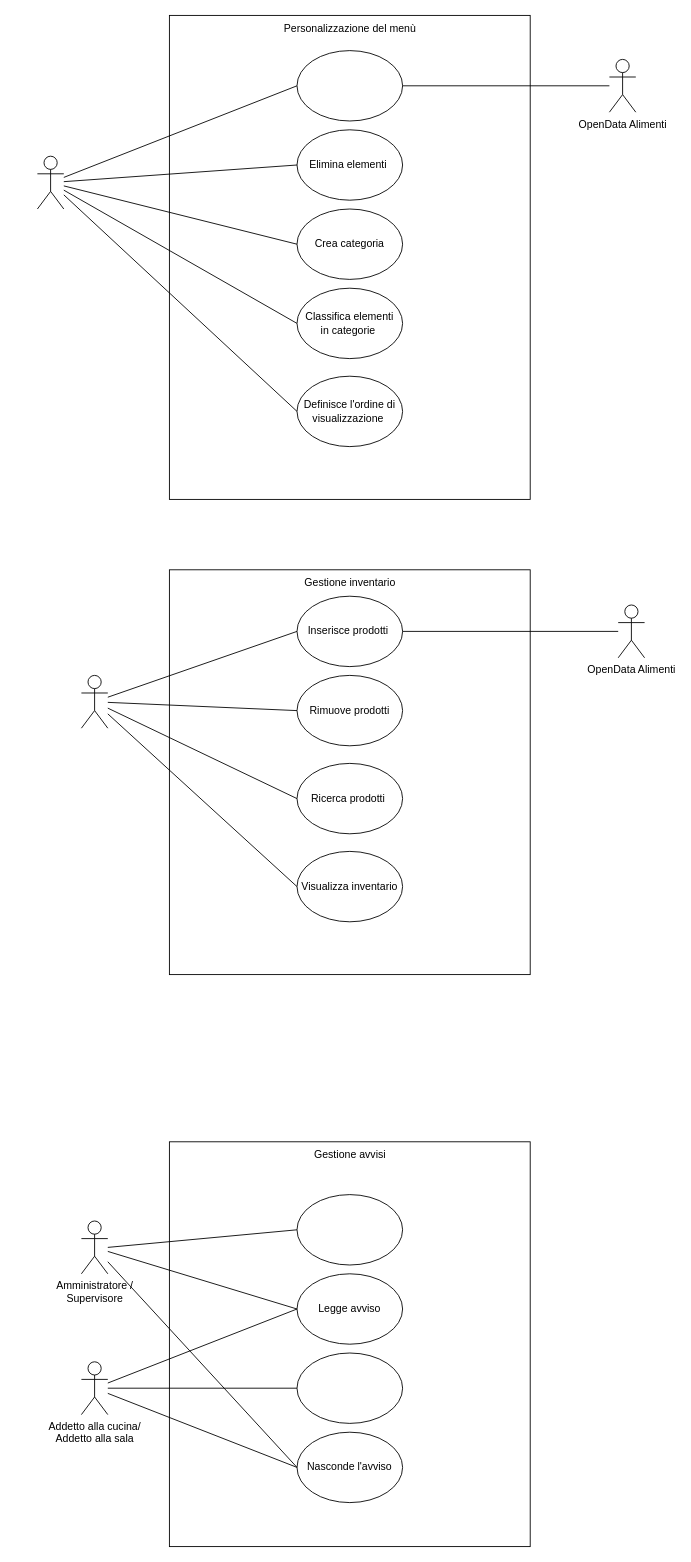
The diagram is 691 pixels wide and 1562 high, and some of its shapes have lost their labels. The box of each missing label's shape, as (x1, y1, x2, y2) in pixels:
Addetto alla cucina / Supervisore: (81, 675, 108, 728)
Amministratore: (37, 155, 64, 209)
Crea elementi: (296, 50, 403, 121)
Marca come letto: (296, 1352, 403, 1423)
Scrive avviso: (296, 1194, 403, 1265)
